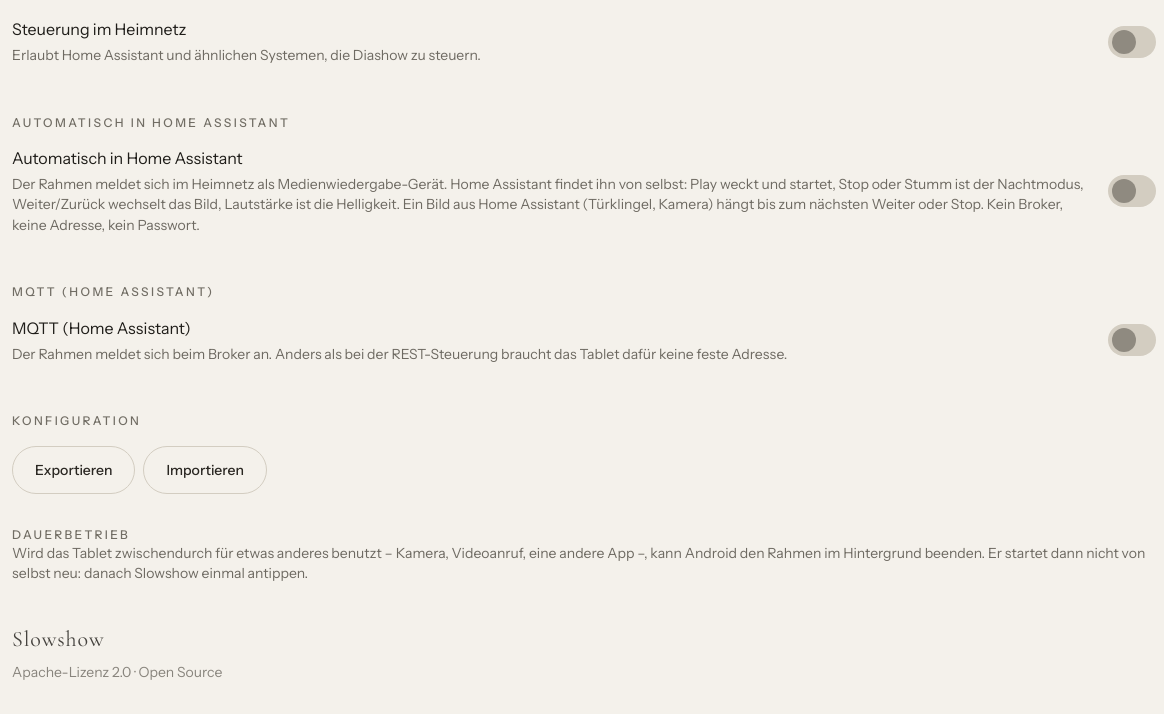
Sicherung auf Android › meldet einen fehlgeschlagenen Export als Export, nicht als Import
The image size is (1164, 714).
(page scrolled)
Step 1. Click the button "Exportieren" → {"x": 74, "y": 470}, box [12, 446, 135, 494]
(page scrolled)
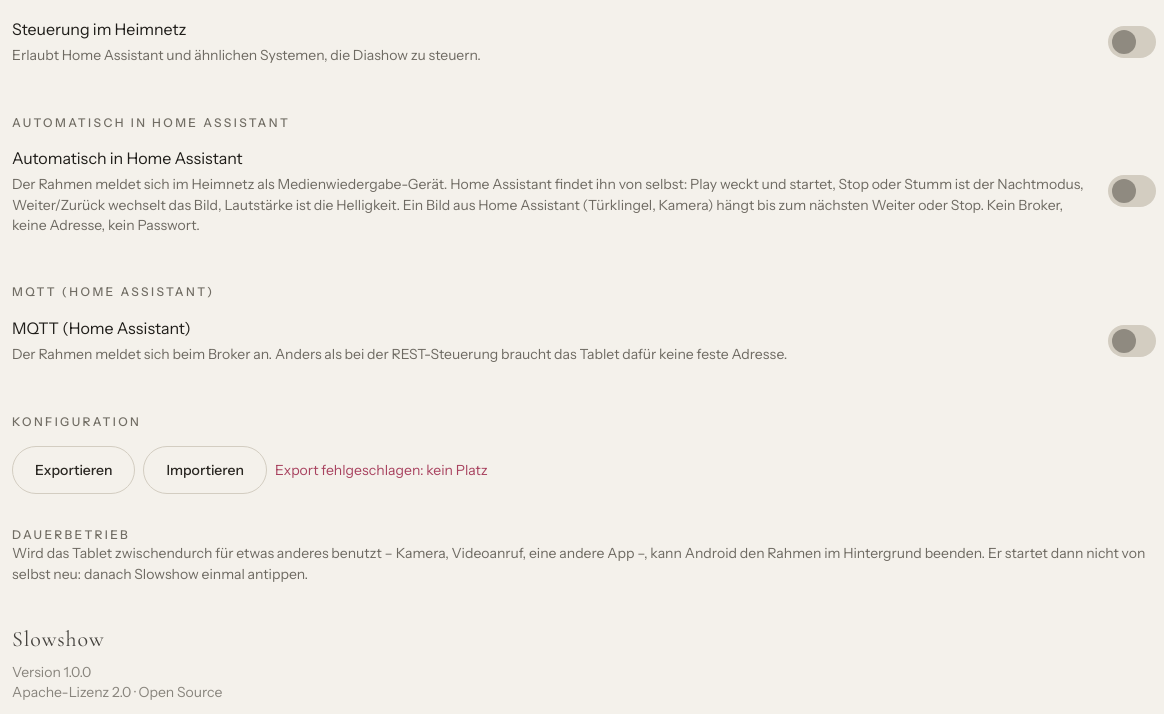
Result: the text "Export fehlgeschlagen" is shown at [275, 462, 488, 480]
Result: the text "kein Platz" is shown at [275, 462, 488, 480]
